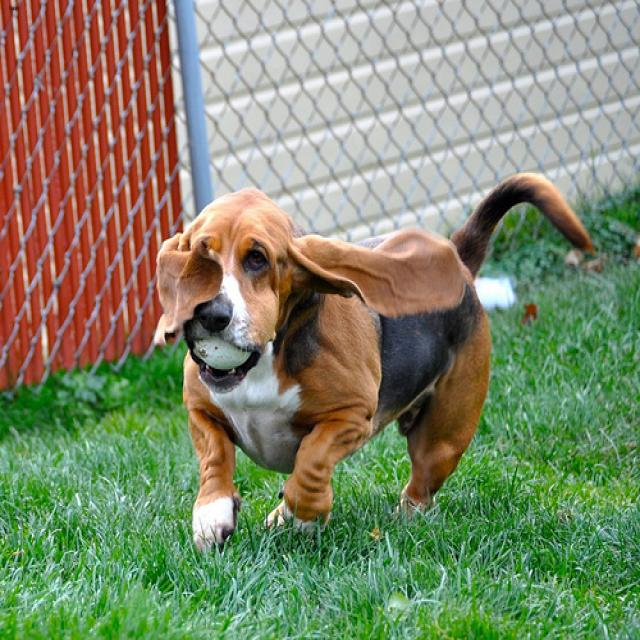dog-basset_hound: (141, 159, 603, 561)
